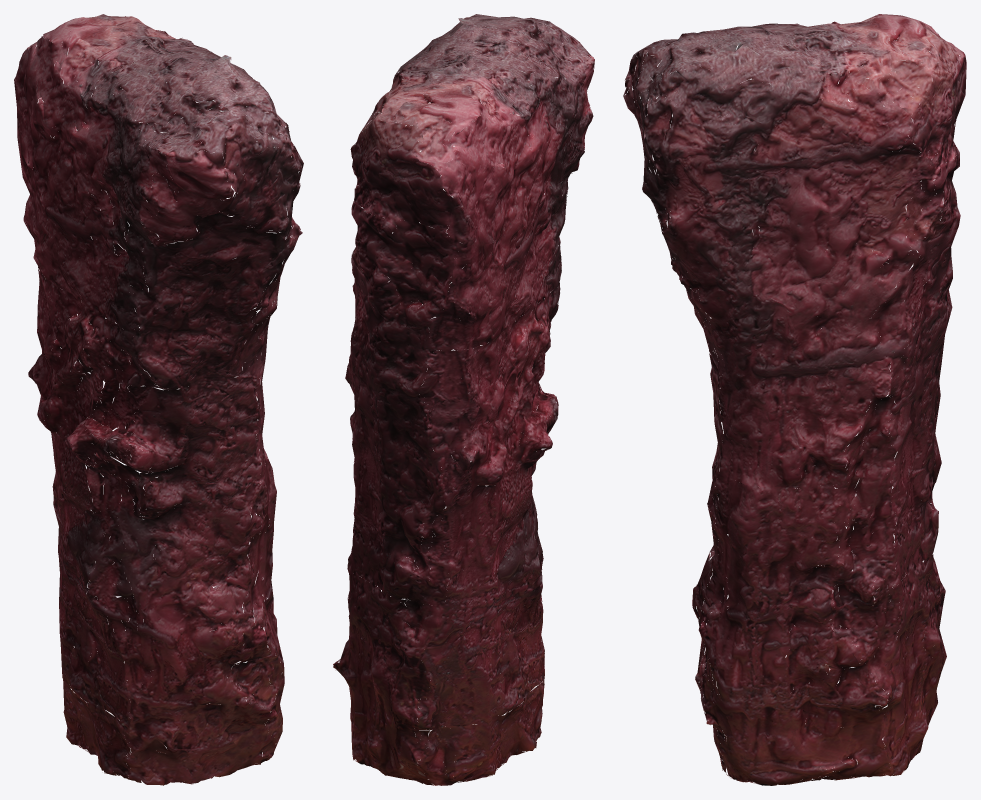
The model's file is chicken.glb.
The picture shows the model from 3 angles, left to right: view 1: azimuth 30°, elevation 25°; view 2: azimuth 150°, elevation 25°; view 3: azimuth 270°, elevation 25°; orthographic projection. The views are drawn at different scales.
Parts seen in each view (by area): view 1: Mesh_0_Part_0; view 2: Mesh_0_Part_0; view 3: Mesh_0_Part_0.
Part boxes in pixels (x1,y1,x2,y2): Mesh_0_Part_0: (14,14,303,785); Mesh_0_Part_0: (333,14,594,785); Mesh_0_Part_0: (623,14,966,785).
Size of the model in its own units: 1.85 by 6.76 by 2.94.
1 material, 1 textured.
